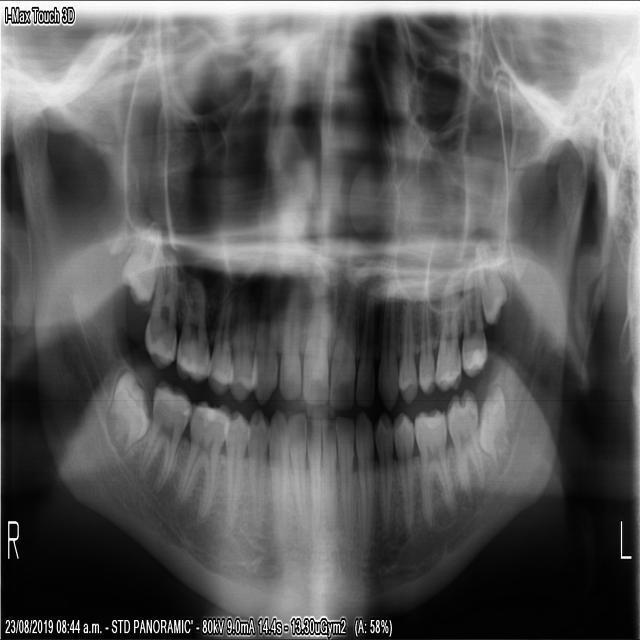LCD: (354, 411, 373, 552)
LCU: (375, 281, 399, 413)
LID: (333, 416, 352, 537), (319, 416, 337, 529)
LIU: (328, 283, 355, 414), (353, 283, 376, 409)
LMD: (412, 407, 455, 530), (445, 389, 484, 505), (477, 381, 511, 470)
LMU: (435, 270, 462, 392), (460, 262, 487, 381), (472, 235, 505, 325)
LPMD: (371, 409, 393, 535), (392, 406, 414, 532)
LPMU: (397, 295, 417, 407), (416, 284, 433, 397)
RCD: (265, 406, 287, 538)
RCU: (249, 283, 277, 407)
RID: (285, 409, 308, 534), (305, 417, 319, 536)
RIU: (300, 289, 328, 406), (277, 283, 301, 402)
RMD: (174, 394, 229, 528), (134, 377, 192, 494), (102, 368, 150, 460)
RMU: (141, 242, 177, 372), (173, 273, 209, 386), (117, 225, 157, 307)
RPMD: (221, 408, 245, 531), (245, 408, 265, 526)
RPMU: (205, 283, 235, 396), (225, 289, 253, 403)
